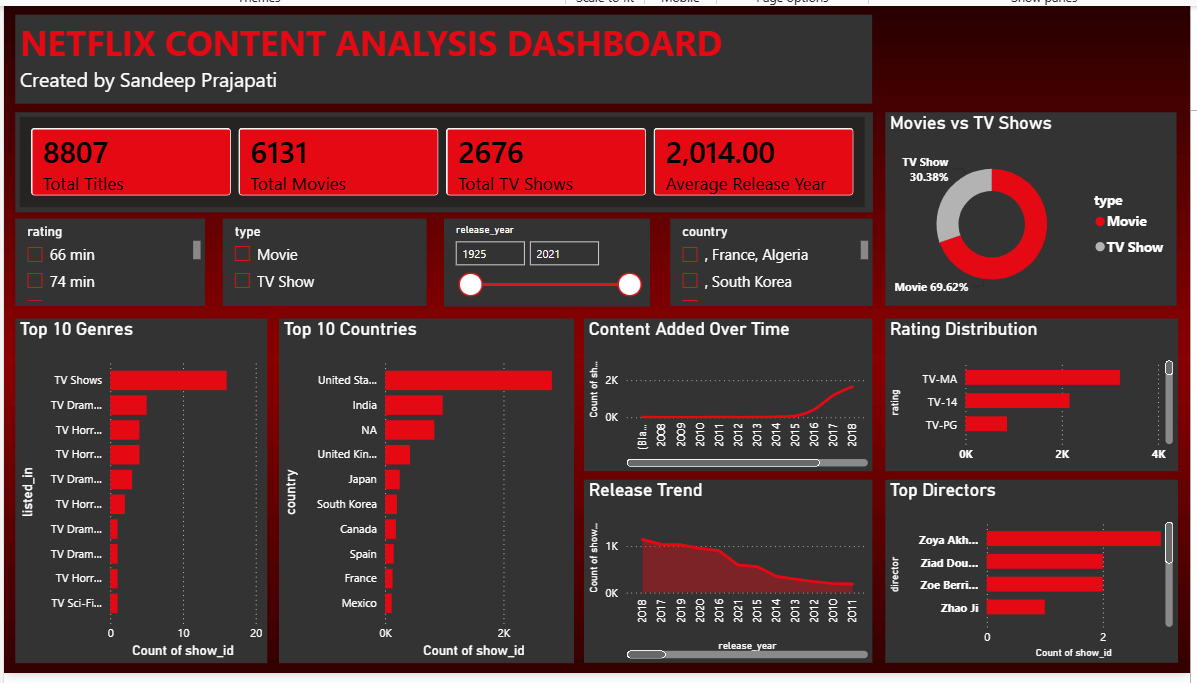

The page's visual inventory and layout, read from the dashboard file:
{"tool":"powerbi","page":{"name":"Page 1","canvas":[1280,720],"ordinal":0},"visuals":[{"type":"cardVisual","fields":{"Data":["Measure.Total Titles","Measure.Total Movies","Measure.Total TV Shows","Measure.Average Release Year"]},"box":[12.1,114.7,925.5,107.9],"z":0},{"type":"donutChart","title":"Movies vs TV Shows","fields":{"Category":["netflix_titles.type"],"Y":["CountNonNull(netflix_titles.show_id)"]},"box":[951.1,114.7,314.3,209.1],"z":1000},{"type":"clusteredBarChart","title":"Rating Distribution","fields":{"Category":["netflix_titles.rating"],"Y":["CountNonNull(netflix_titles.show_id)"]},"box":[951.1,337.3,315.7,164.6],"z":2000},{"type":"textbox","box":[12.3,9.6,924.9,96.1],"z":3000},{"type":"lineChart","title":"Content Added Over Time","fields":{"Category":["netflix_titles.date_added.Variation.Date Hierarchy.Year","netflix_titles.release_year"],"Y":["CountNonNull(netflix_titles.show_id)"]},"box":[625.7,337.6,311.5,164.7],"z":4000},{"type":"areaChart","title":"Release Trend","fields":{"Category":["netflix_titles.release_year"],"Y":["CountNonNull(netflix_titles.show_id)"]},"box":[625.7,511.8,311.5,197.6],"z":5000},{"type":"clusteredBarChart","title":"Top Directors","fields":{"Category":["netflix_titles.director"],"Y":["CountNonNull(netflix_titles.show_id)"]},"box":[950.9,511.8,315.6,197.6],"z":6000},{"type":"slicer","fields":{"Values":["netflix_titles.rating"]},"box":[12.1,229.2,205.1,94.1],"z":7000},{"type":"slicer","fields":{"Values":["netflix_titles.type"]},"box":[236.1,229.3,219.9,94.4],"z":8000},{"type":"slicer","fields":{"Values":["netflix_titles.release_year"]},"box":[474.9,229.3,221.2,94.4],"z":9000},{"type":"slicer","fields":{"Values":["netflix_titles.country"]},"box":[719.1,229.3,218.6,94.4],"z":10000},{"type":"clusteredBarChart","title":"Top 10 Countries","fields":{"Category":["netflix_titles.country"],"Y":["Count(netflix_titles.show_id)"]},"box":[296.4,337.6,318.4,371.9],"z":11000},{"type":"clusteredBarChart","title":"Top 10 Genres","fields":{"Category":["netflix_titles.listed_in"],"Y":["CountNonNull(netflix_titles.show_id)"]},"box":[12.3,337.6,271.7,371.9],"z":12000}]}

Visuals, with their boxes on the page's 1280x720 design canvas (x1, y1, x2, y2). These are canvas units, not pixel positions in the 1197x683 screenshot, which may show the page scaled, cropped or inside an application window:
cardVisual - Measure.Total Titles x Measure.Total Movies: <bbox>12, 115, 938, 223</bbox>
"Movies vs TV Shows" donutChart: <bbox>951, 115, 1265, 324</bbox>
"Rating Distribution" clusteredBarChart: <bbox>951, 337, 1267, 502</bbox>
textbox: <bbox>12, 10, 937, 106</bbox>
"Content Added Over Time" lineChart: <bbox>626, 338, 937, 502</bbox>
"Release Trend" areaChart: <bbox>626, 512, 937, 709</bbox>
"Top Directors" clusteredBarChart: <bbox>951, 512, 1266, 709</bbox>
slicer - netflix_titles.rating: <bbox>12, 229, 217, 323</bbox>
slicer - netflix_titles.type: <bbox>236, 229, 456, 324</bbox>
slicer - netflix_titles.release_year: <bbox>475, 229, 696, 324</bbox>
slicer - netflix_titles.country: <bbox>719, 229, 938, 324</bbox>
"Top 10 Countries" clusteredBarChart: <bbox>296, 338, 615, 710</bbox>
"Top 10 Genres" clusteredBarChart: <bbox>12, 338, 284, 710</bbox>
